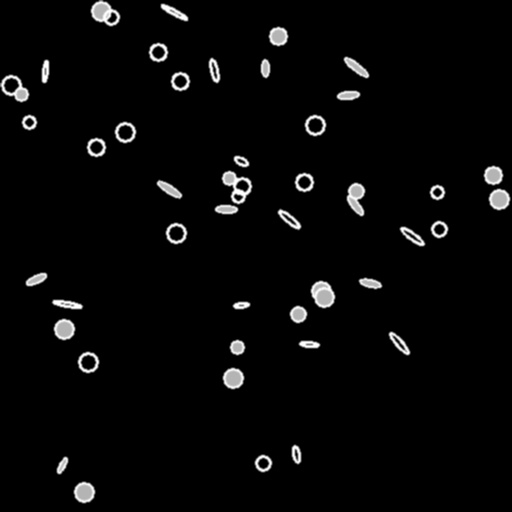pseudomonas: (342, 55, 370, 79), (388, 331, 410, 355), (277, 208, 301, 230), (156, 179, 182, 199), (160, 3, 188, 21), (400, 226, 424, 246), (346, 195, 364, 215), (52, 299, 82, 309), (26, 272, 46, 286), (208, 59, 220, 81), (233, 154, 249, 168), (360, 278, 380, 288), (56, 457, 68, 473), (291, 445, 301, 463), (215, 205, 237, 213), (338, 91, 358, 99), (41, 61, 49, 81), (261, 60, 269, 76), (299, 341, 319, 347), (233, 302, 249, 308)
synechocystis: (490, 190, 508, 208), (2, 76, 20, 94), (306, 116, 324, 134), (92, 2, 110, 20), (75, 483, 93, 501), (167, 224, 185, 242), (312, 282, 330, 300), (79, 353, 97, 371), (315, 288, 333, 306), (55, 320, 73, 338), (224, 369, 242, 387), (116, 123, 134, 141), (296, 174, 312, 190), (150, 44, 166, 60), (485, 167, 501, 183), (234, 178, 250, 194), (88, 139, 104, 155), (172, 73, 188, 89), (270, 28, 286, 44), (256, 456, 270, 470), (104, 10, 118, 24), (432, 222, 446, 236), (349, 184, 363, 198), (291, 307, 305, 321), (223, 172, 235, 184), (232, 190, 244, 202), (231, 341, 243, 353), (431, 186, 443, 198), (15, 88, 27, 100), (23, 116, 35, 128)
